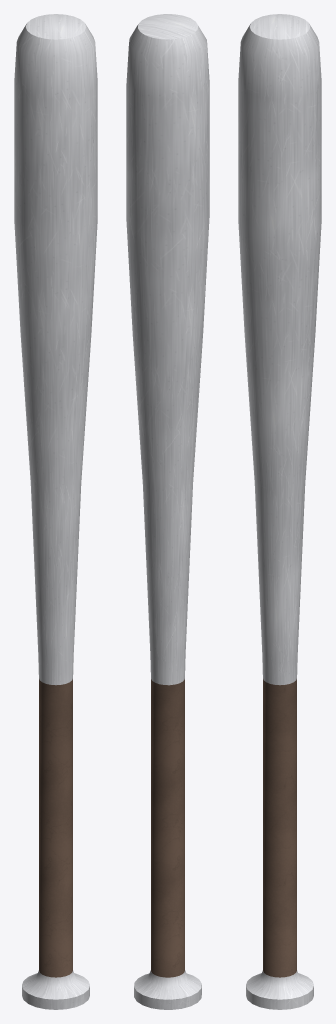
Rendered from bat.glb.
3 views of the same model, side by side, from view 1: azimuth 90°, elevation 25°; view 2: azimuth 150°, elevation 25°; view 3: azimuth 270°, elevation 25° (orthographic).
Parts seen in each view (by area): view 1: OUT; view 2: OUT; view 3: OUT.
Part boxes in pixels (<box>): OUT: <box>14,14,97,1009</box>; OUT: <box>126,14,209,1009</box>; OUT: <box>238,14,321,1009</box>.
Bounding box in the file's own units: 0.066 × 0.85 × 0.066.
2 materials, 2 textured.
